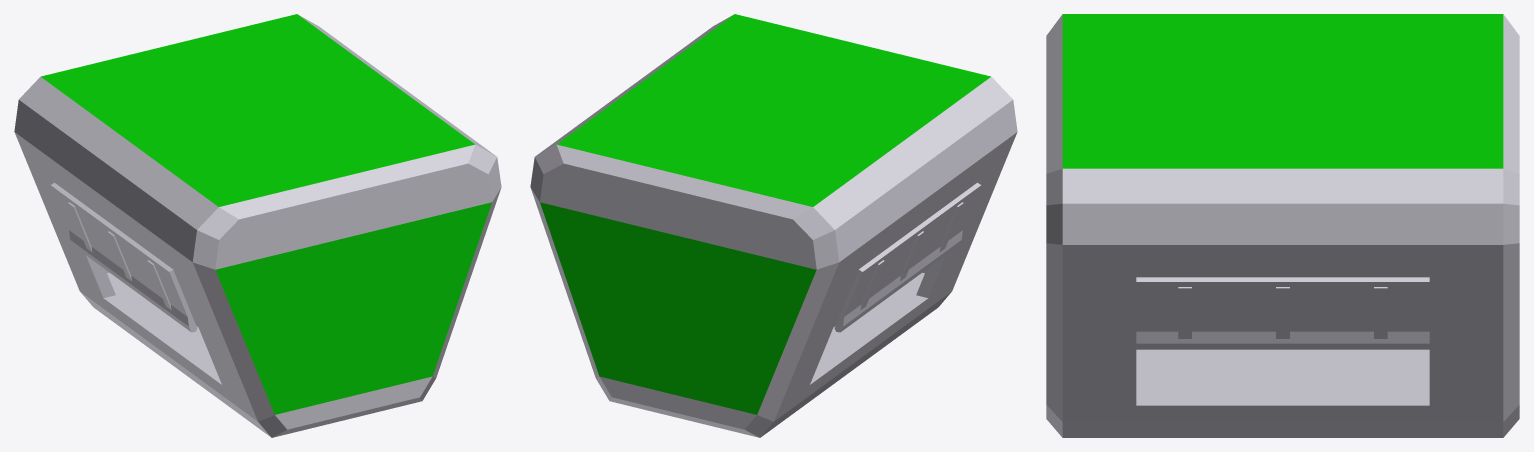
Rendered from Hangar.fbx.
3 views of the same model, side by side, from view 1: azimuth 30°, elevation 25°; view 2: azimuth 150°, elevation 25°; view 3: azimuth 270°, elevation 25° (orthographic). The views are drawn at different scales.
Parts seen in each view (by area): view 1: Hangar; view 2: Hangar; view 3: Hangar.
Part boxes in pixels (<box>): Hangar: <box>14,14,501,437</box>; Hangar: <box>530,14,1017,437</box>; Hangar: <box>1046,14,1519,437</box>.
Bounding box in the file's own units: 2 × 1.51 × 2.15.
